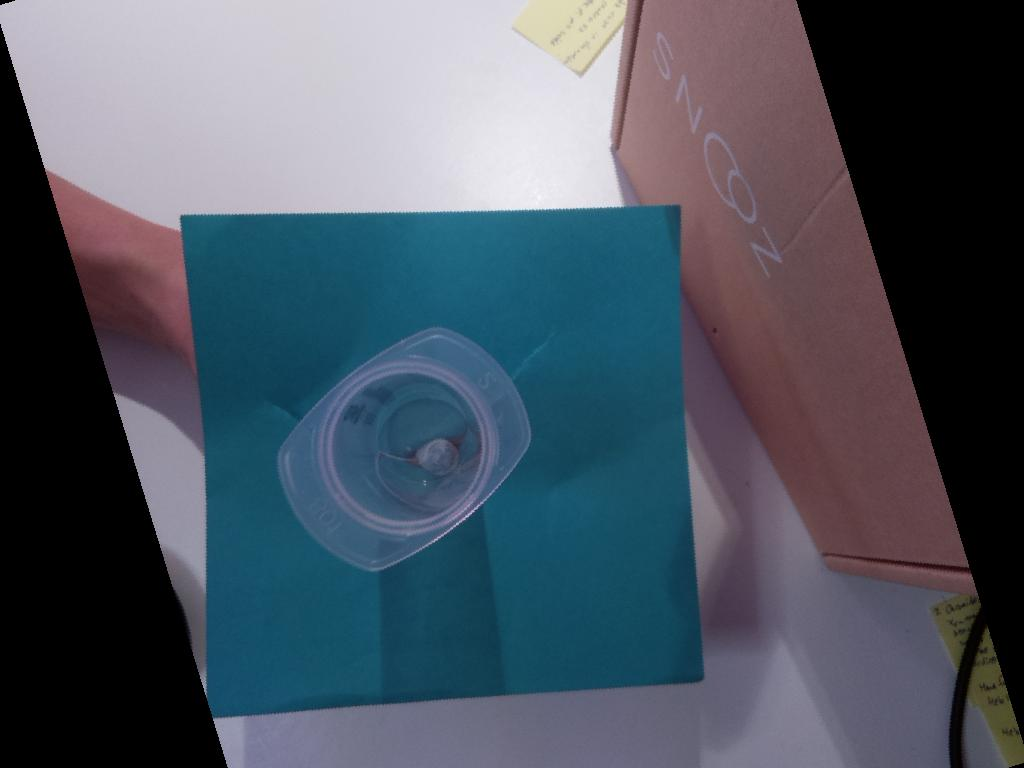clean: (276, 323, 532, 572)
